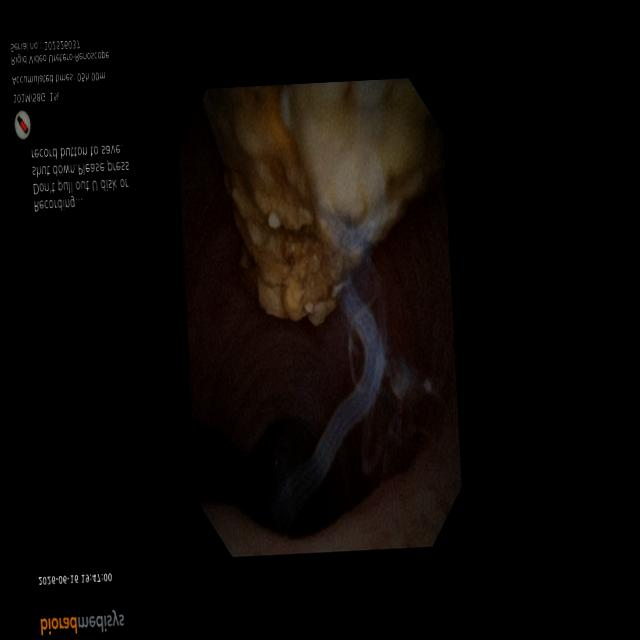stone-new: (203, 80, 444, 326)
